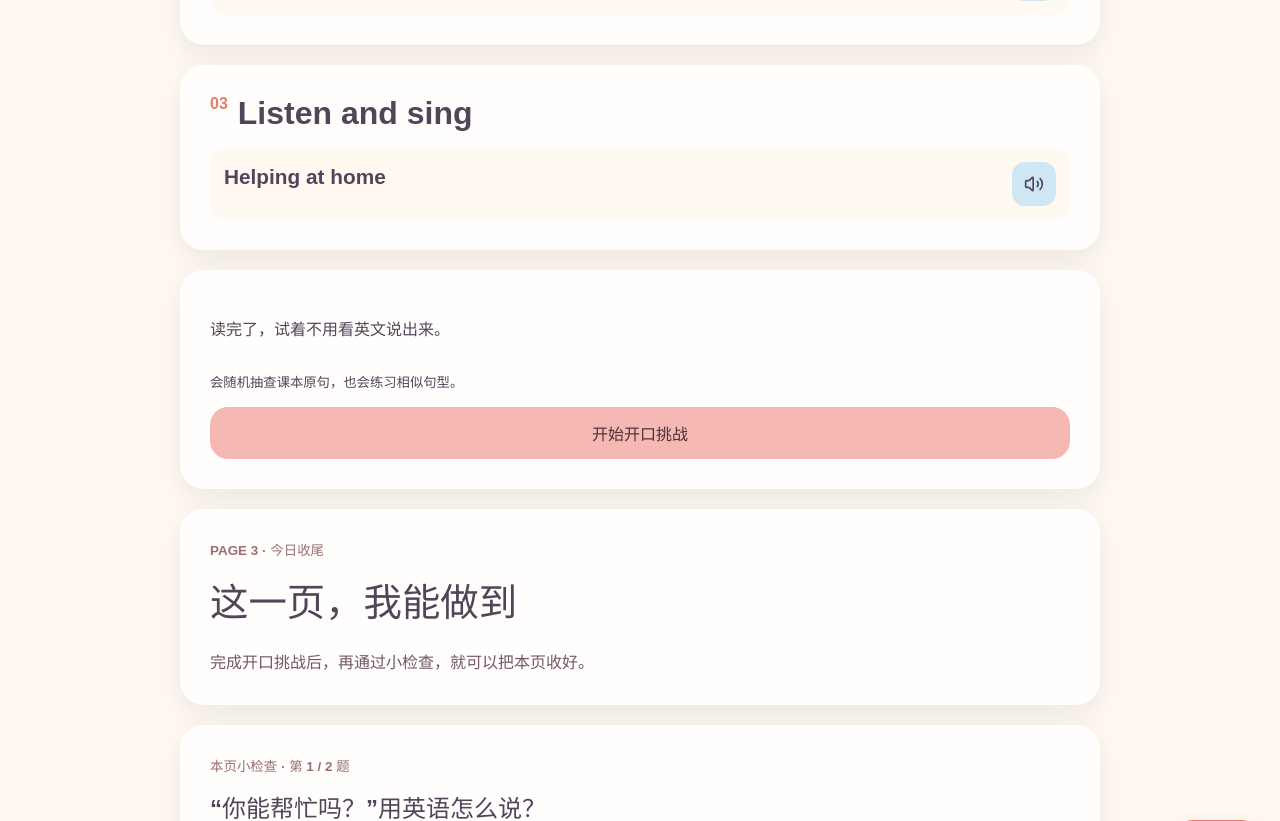
Test: SchoolTextbookPage › 先显示开口挑战入口和本页收尾，再在点击后开始抽查
(page scrolled)
Expected: the text "读完了，试着不用看英文说出来。" is shown, [210,321,450,338]
Expected: the heading "这一页，我能做到" is shown, [210,581,517,624]
What coordinates should you click on to do the following:
click the button "开始开口挑战"
I would click on:
 (640, 433)
Its box is [210,407,1070,459].
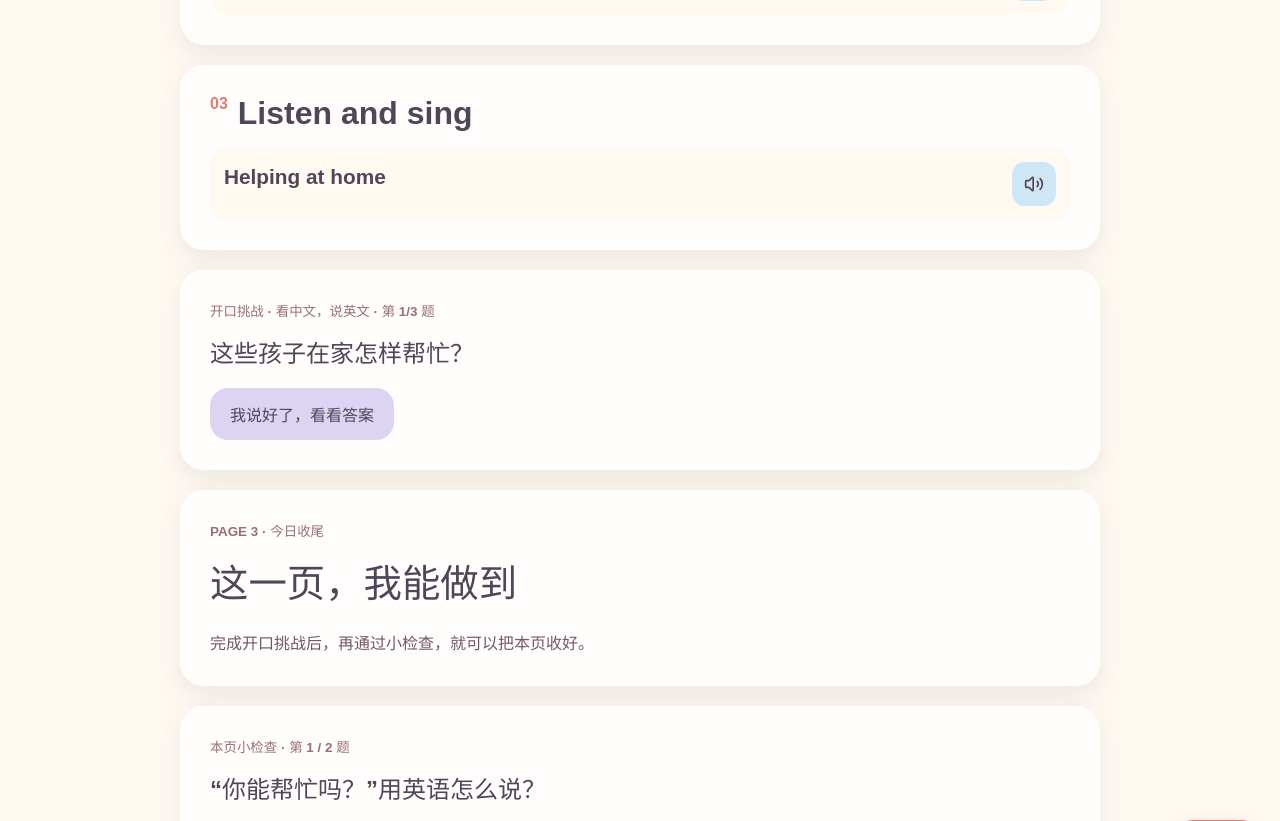
Expected: the text "开口挑战 · 看中文，说英文 · 第 1/3 题" is shown, [210,304,435,319]
